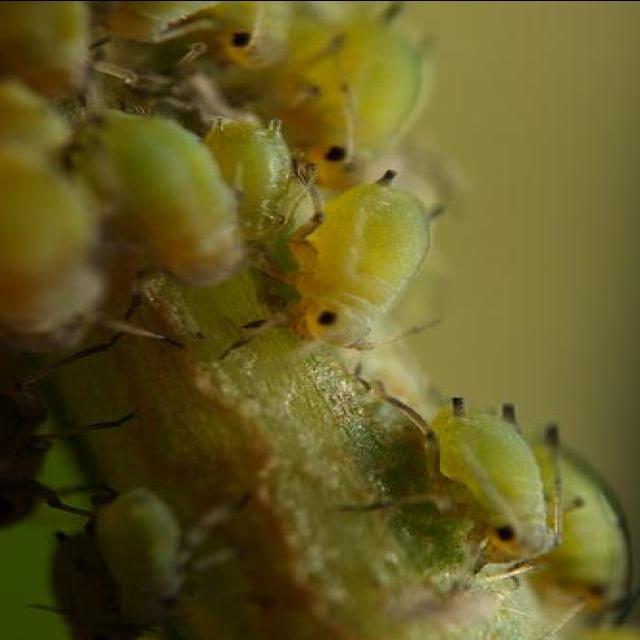aphid: (371, 357, 571, 588), (276, 154, 468, 370), (81, 106, 239, 287)
